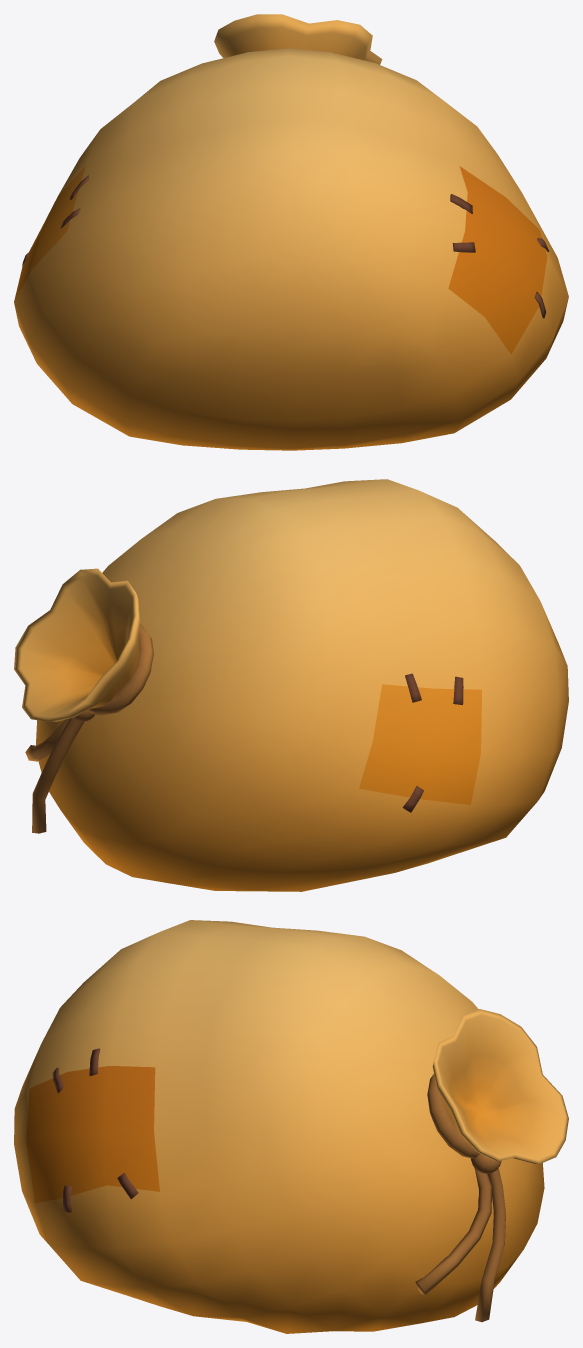
The model's file is obj_SeedsBag.fbx.
3 views of the same model, one above another, from view 1: azimuth 30°, elevation 25°; view 2: azimuth 150°, elevation 25°; view 3: azimuth 270°, elevation 25° (orthographic).
Parts seen in each view (by area): view 1: obj_SeedsBag; view 2: obj_SeedsBag; view 3: obj_SeedsBag.
Boxes of the visible parts, x1,y1,x2,y2 form: obj_SeedsBag: (14, 14, 568, 450); obj_SeedsBag: (14, 479, 568, 891); obj_SeedsBag: (14, 920, 568, 1333).
Bounding box in the file's own units: 36.74 × 24.83 × 38.51.
